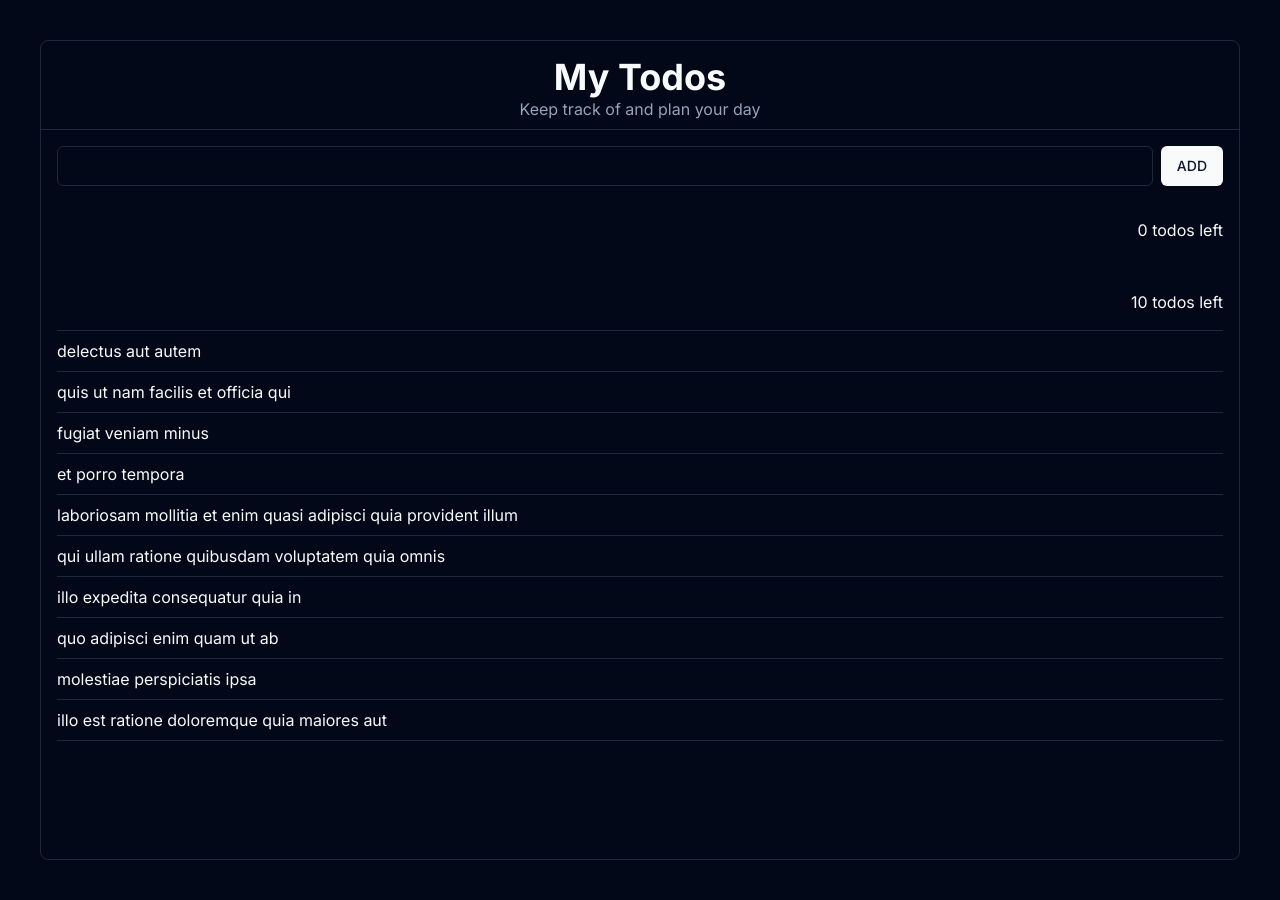
Test: Home › integration test if possible to add and remove todos › should render a todo with the same text as entered in the text input
The width and height of the screenshot is (1280, 900).
In the field named "todo-title-input": (605,166) [57,146,1153,186], type "Städa kontoret"
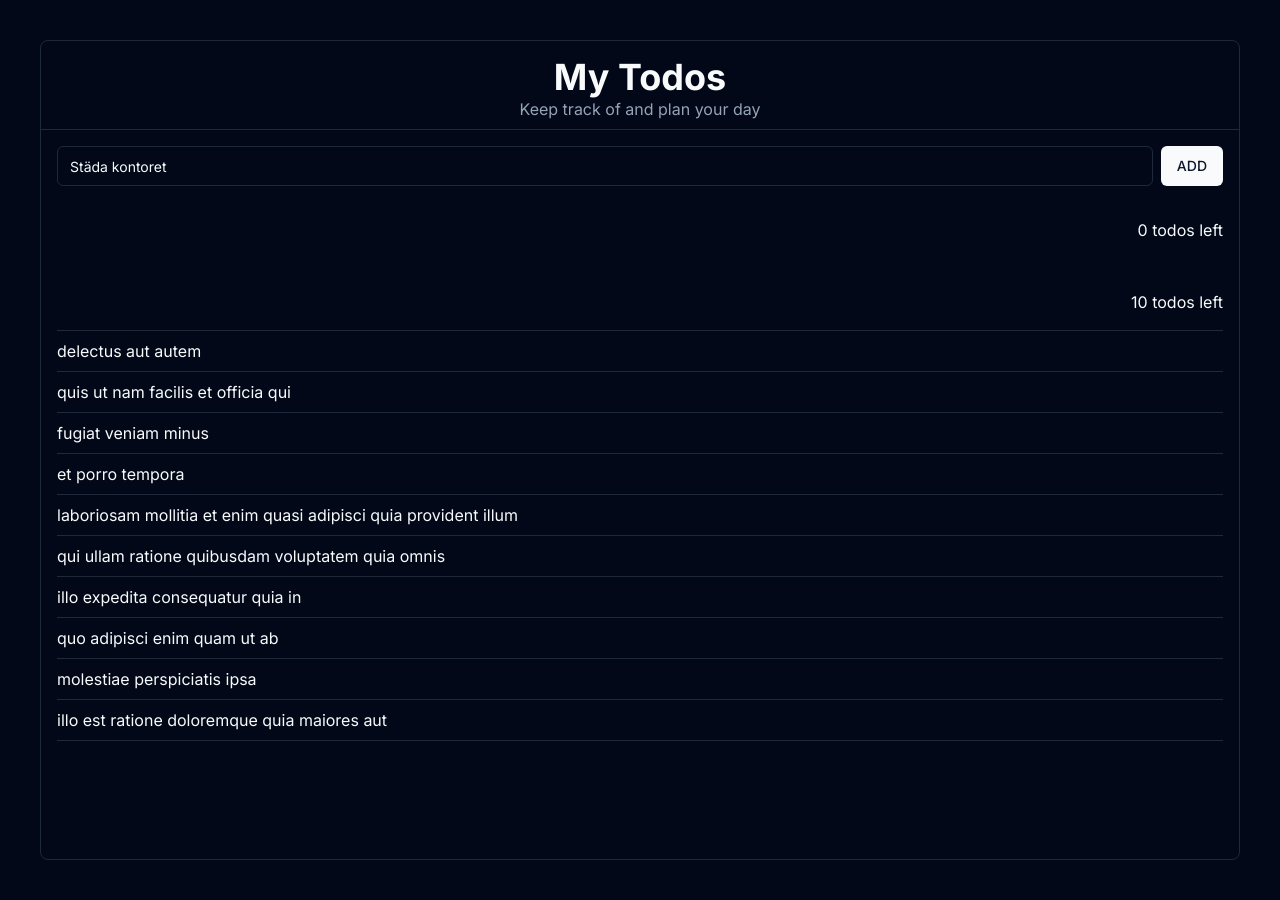
Submit the form, box [57,146,1223,186]
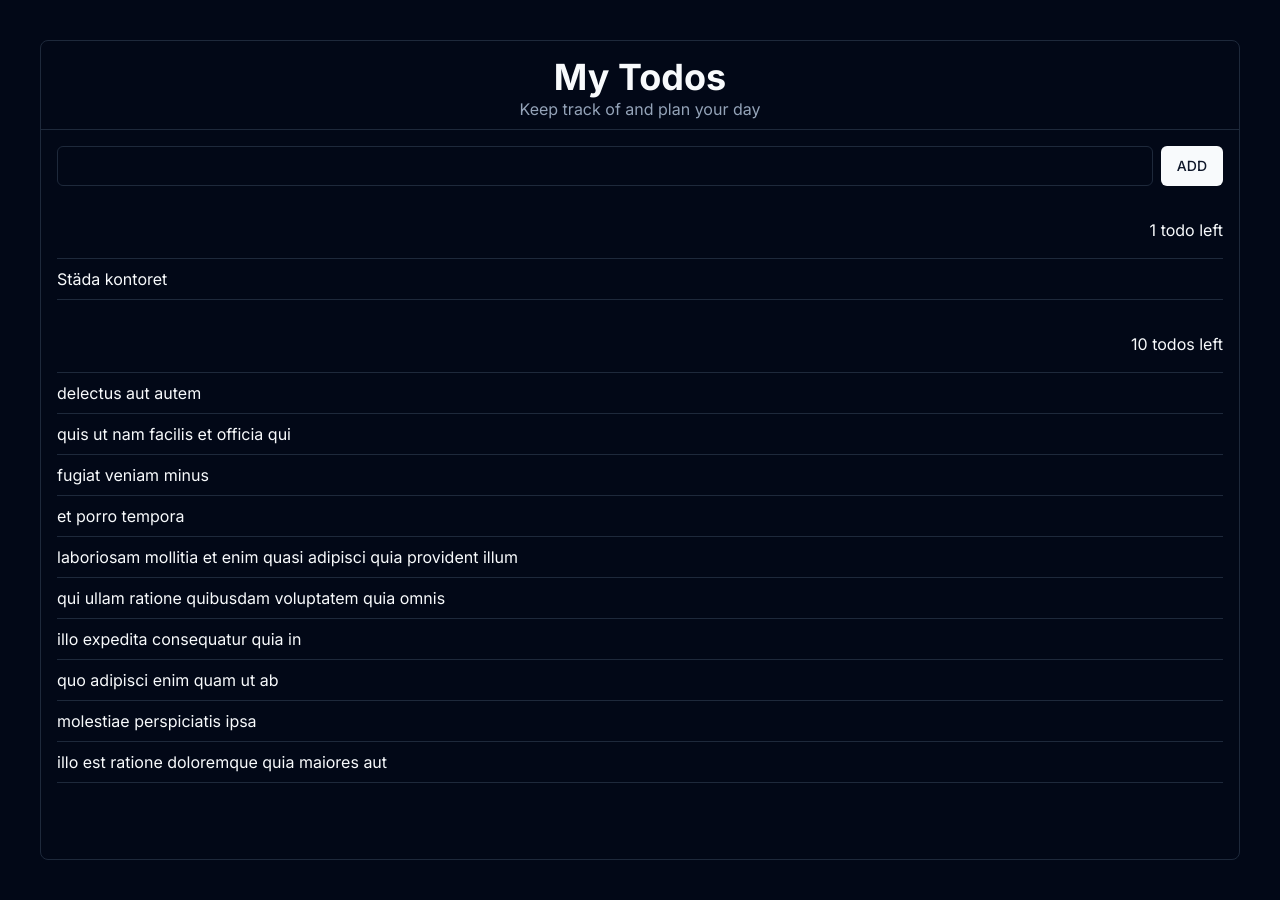
Expected: the text "Städa kontoret" is shown, [57,258,1223,300]
